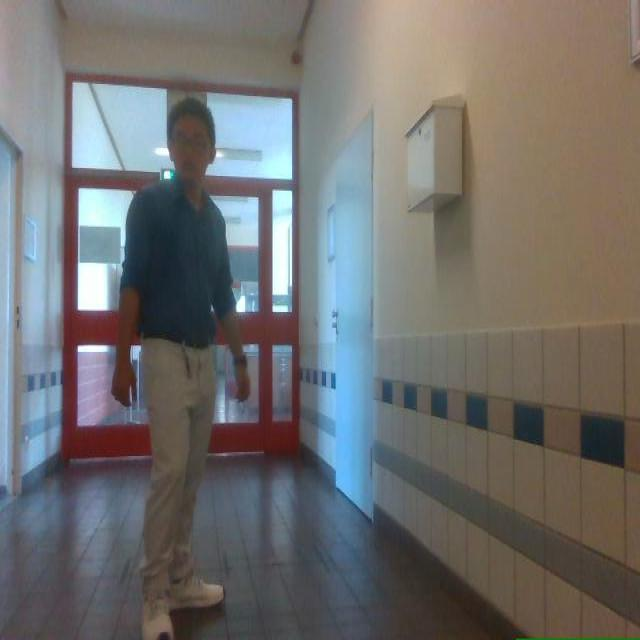humans: (112, 97, 250, 639)
